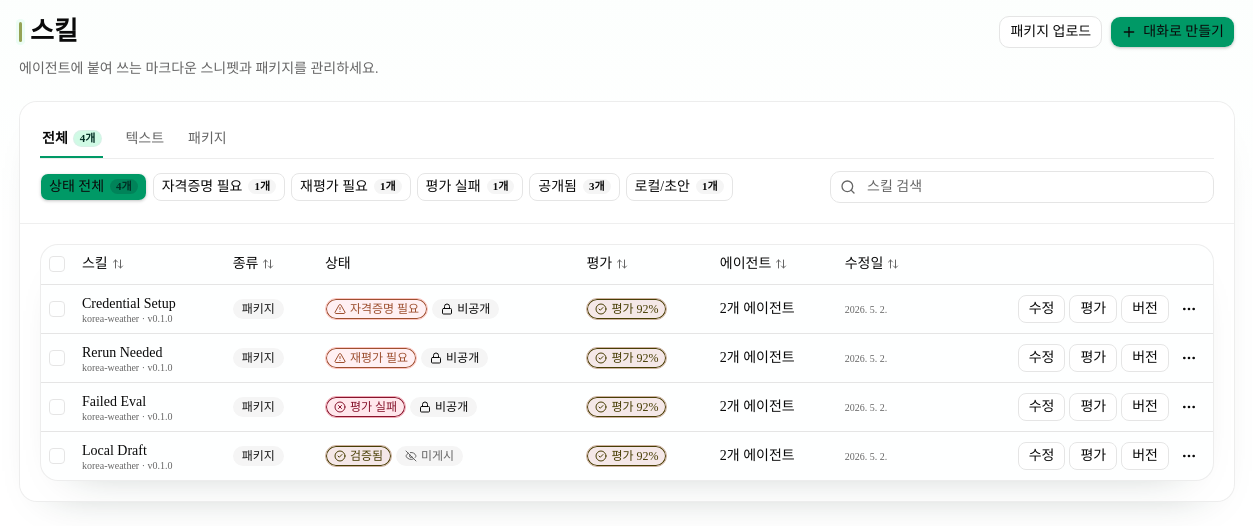
SkillsPage › filters skills from compact state chips
Expected: the button "재평가 필요 1개" is shown, [291, 172, 411, 200]
Expected: the button "평가 실패 1개" is shown, [417, 172, 523, 200]
Click the button "자격증명 필요 1개" at (219, 186), box [153, 172, 285, 200]
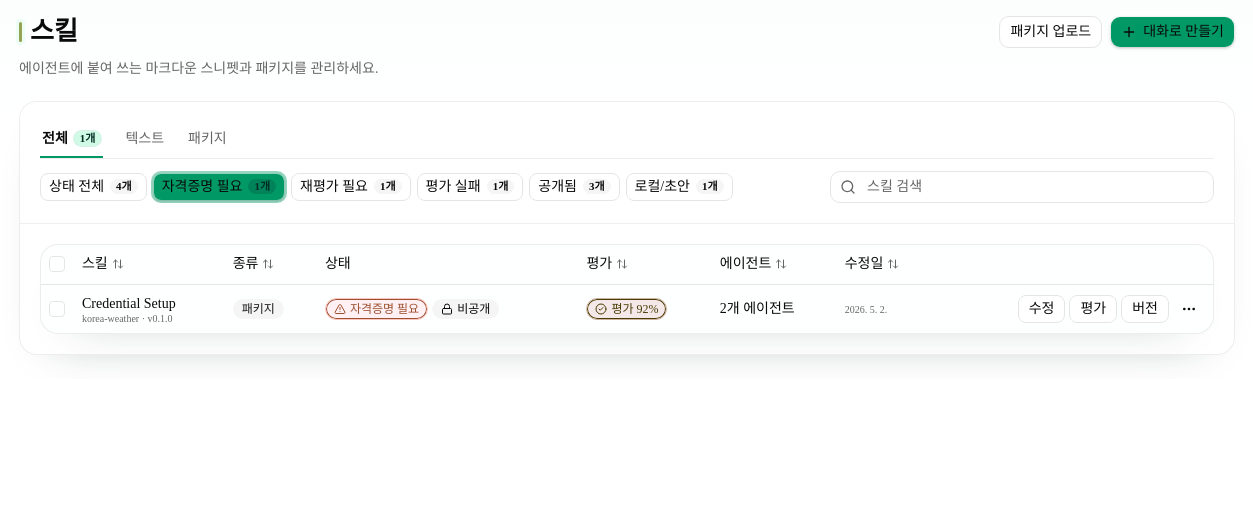
Expected: the text "Rerun Needed" is gone
Expected: the text "Failed Eval" is gone
Expected: the text "Local Draft" is gone
Click the button "로컬/초안 1개" at (679, 186), box [626, 172, 732, 200]
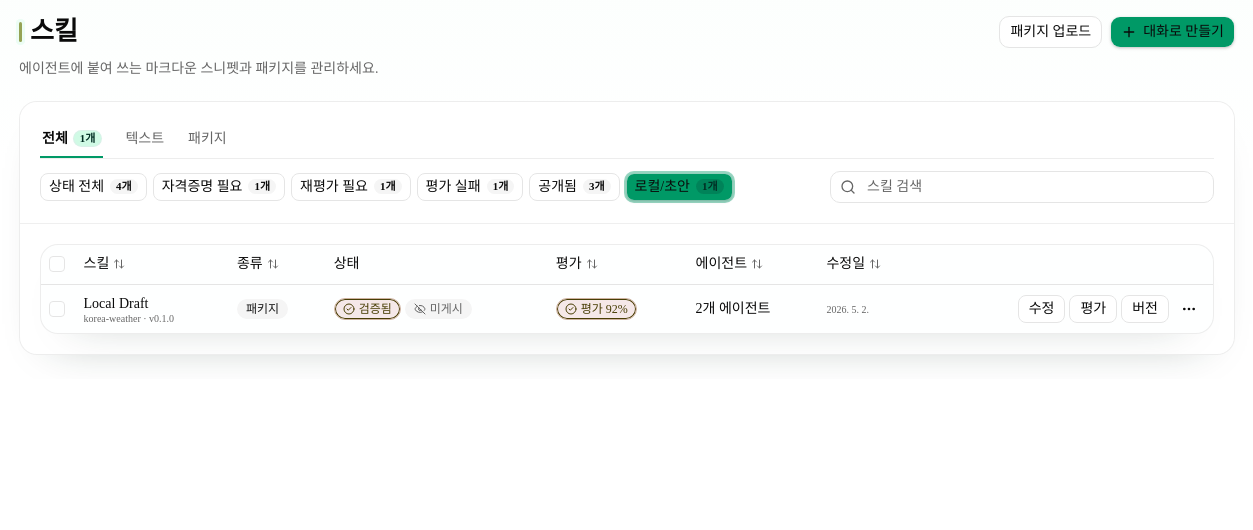
Expected: the text "Local Draft" is shown, [84, 296, 148, 311]
Expected: the text "Credential Setup" is gone
